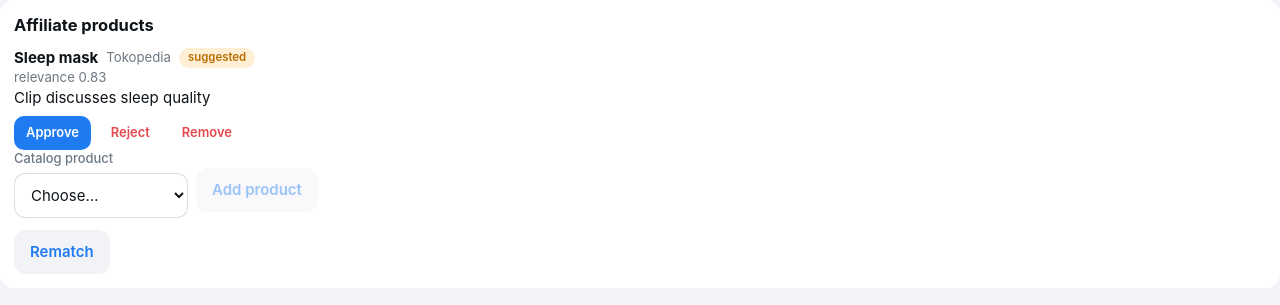
AffiliateSuggestions › shows suggestions with relevance and reason, and approves one
Expected: the text "Sleep mask" is shown, [14,47,98,68]
Expected: the text "Clip discusses sleep quality" is shown, [14,88,210,107]
Click the button with aria-label "Approve Sleep mask" at (52, 133), box [14,116,91,150]
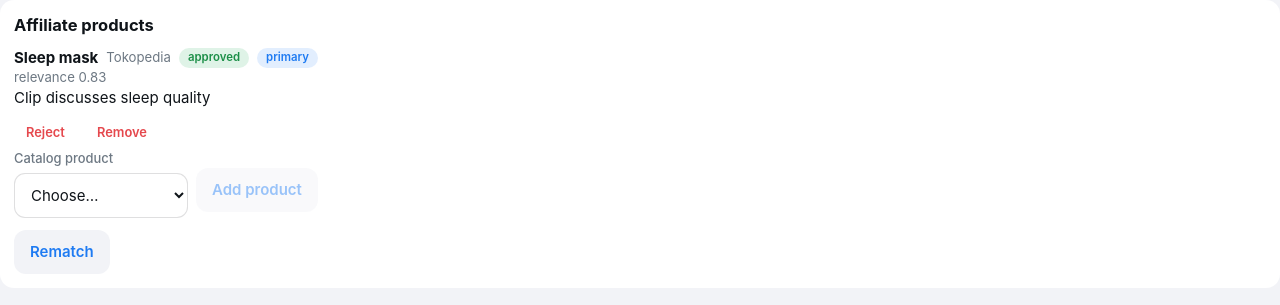
Expected: the text "primary" is shown, [257,48,318,68]
